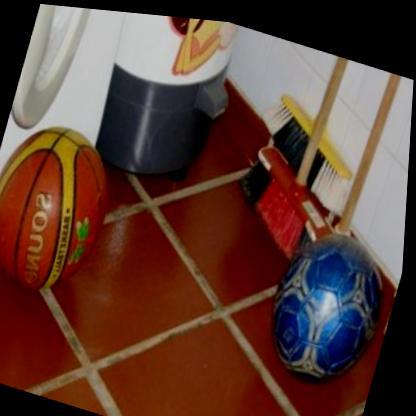basketball: (0, 108, 128, 305)
